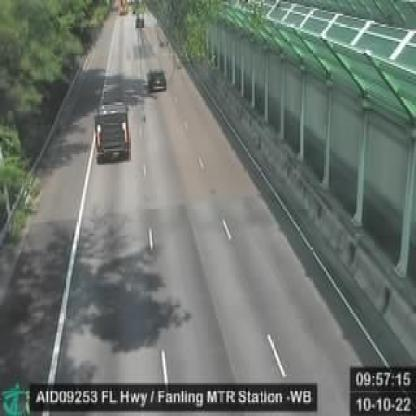Car: (149, 69, 166, 91)
Truck: (97, 77, 129, 162)
